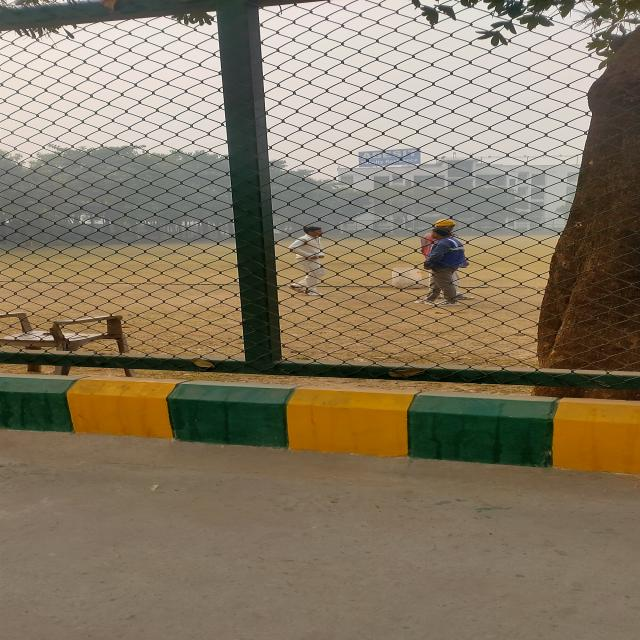safe: (418, 218, 469, 306)
unsafe: (288, 225, 330, 295)
